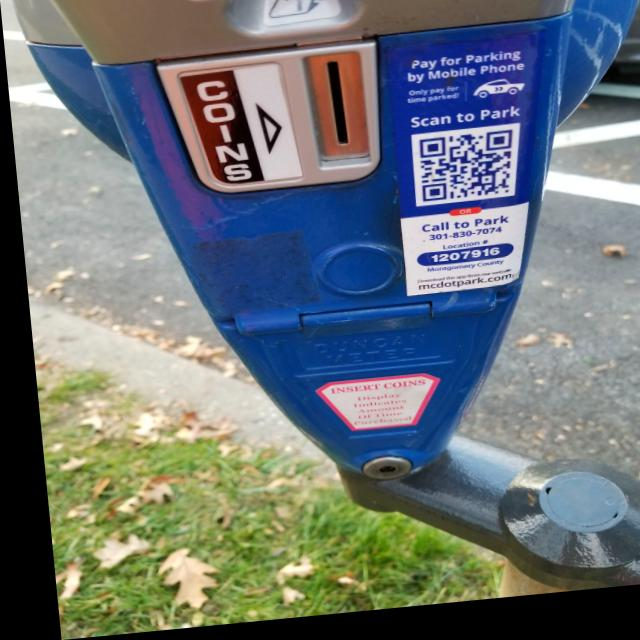QR_CODE: (403, 127, 526, 219)
